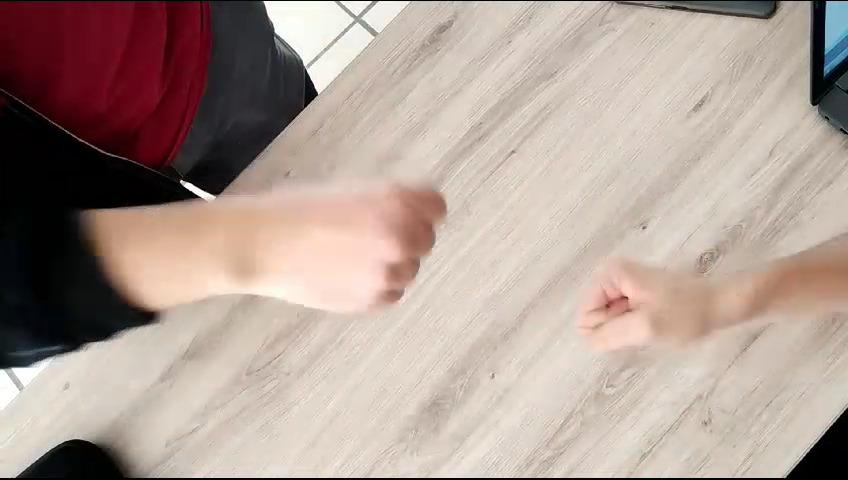Stone: (257, 159, 461, 323), (551, 238, 738, 377)
